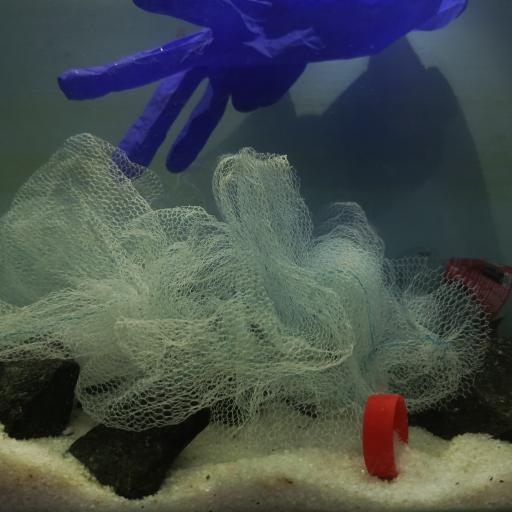bottle_cap: (362, 394, 408, 480)
glove: (58, 1, 474, 183)
net: (0, 131, 493, 452)
plastic_bottle: (398, 246, 512, 337)
